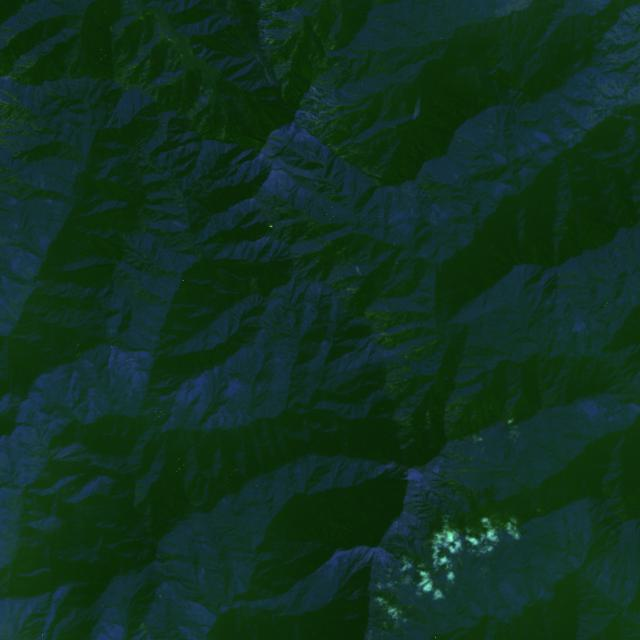landslides: (309, 85, 339, 104), (263, 17, 289, 33), (306, 103, 333, 116), (332, 141, 352, 154), (0, 236, 27, 245), (243, 135, 260, 148), (381, 599, 399, 610), (168, 90, 179, 107), (299, 96, 322, 104), (259, 0, 279, 8), (268, 37, 289, 44), (320, 105, 336, 114), (203, 120, 212, 133), (311, 125, 324, 134), (340, 151, 356, 158)
